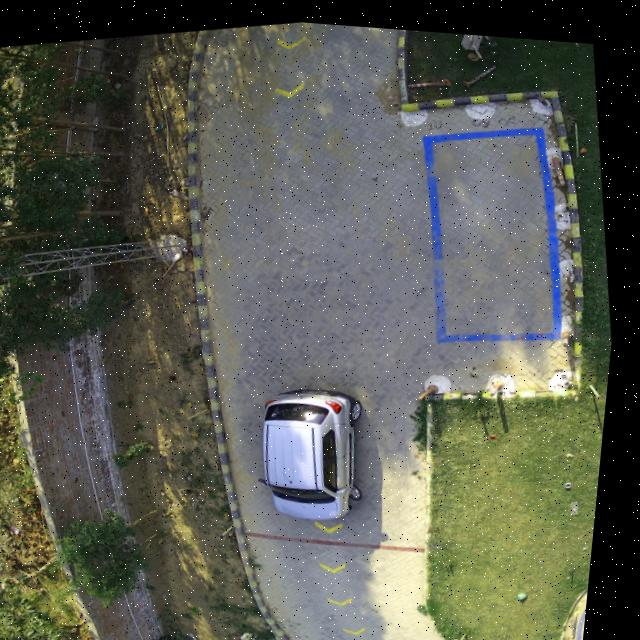car: (271, 383, 370, 514)
